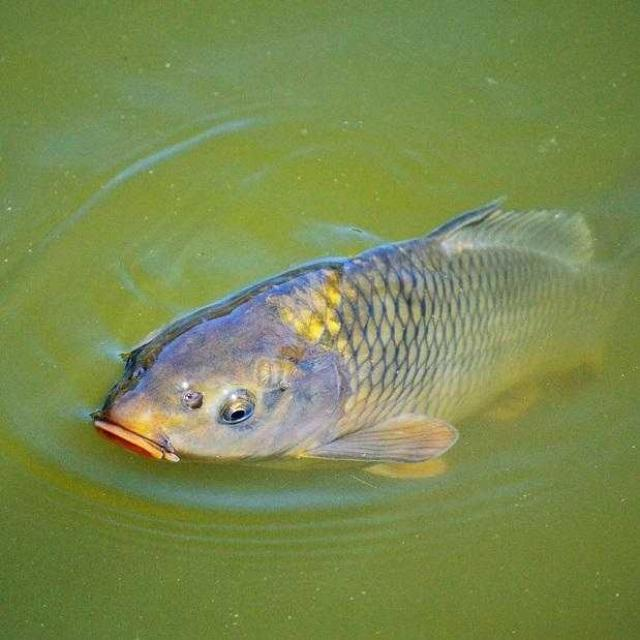Ponds: (5, 2, 640, 640)
